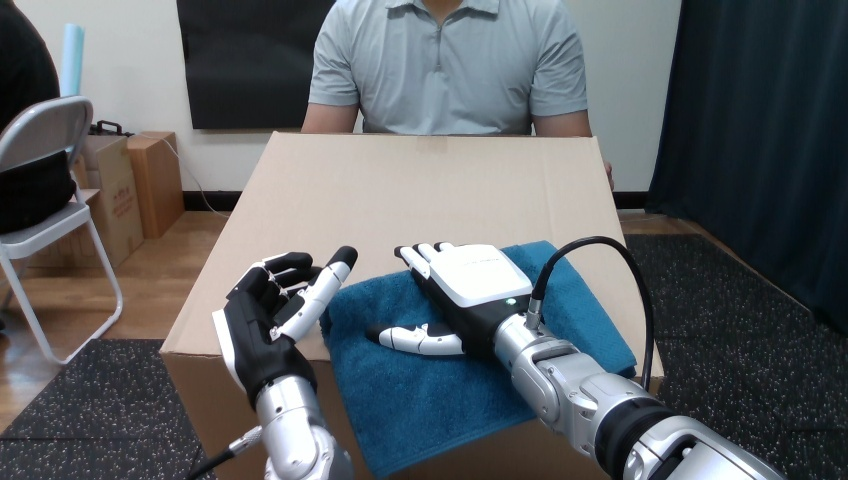left robot hand: (367, 236, 782, 479), (187, 246, 357, 479), (536, 242, 647, 390)
